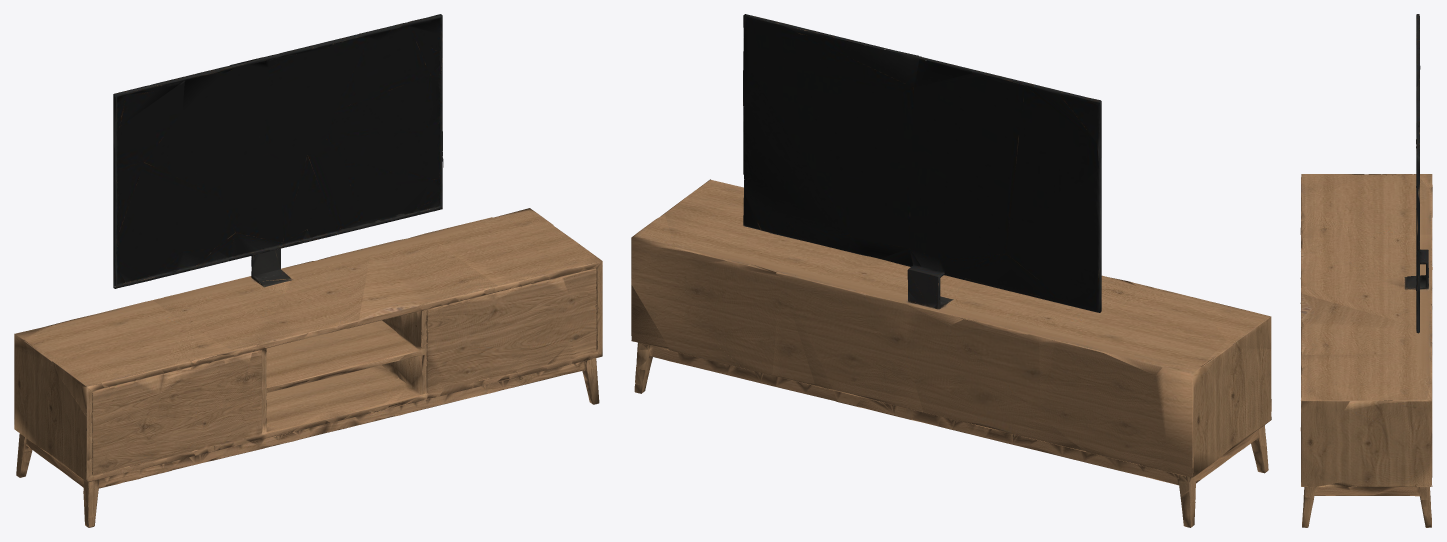
The model's file is tv-wall.glb.
3 views of the same model, side by side, from view 1: azimuth 30°, elevation 25°; view 2: azimuth 150°, elevation 25°; view 3: azimuth 270°, elevation 25° (orthographic). The views are drawn at different scales.
Parts seen in each view (by area): view 1: MeshyFit; view 2: MeshyFit; view 3: MeshyFit.
Part boxes in pixels (x1,y1,x2,y2): MeshyFit: (14,14,602,527); MeshyFit: (631,14,1271,527); MeshyFit: (1300,14,1432,527).
Bounding box in the file's own units: 3.25 × 2.2 × 0.7996.
Materials: 1 (1 with a texture image).
